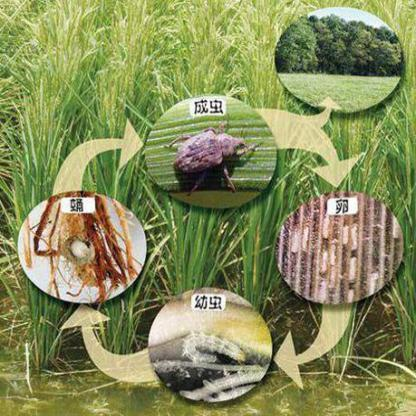rice-bug: (172, 120, 250, 194)
